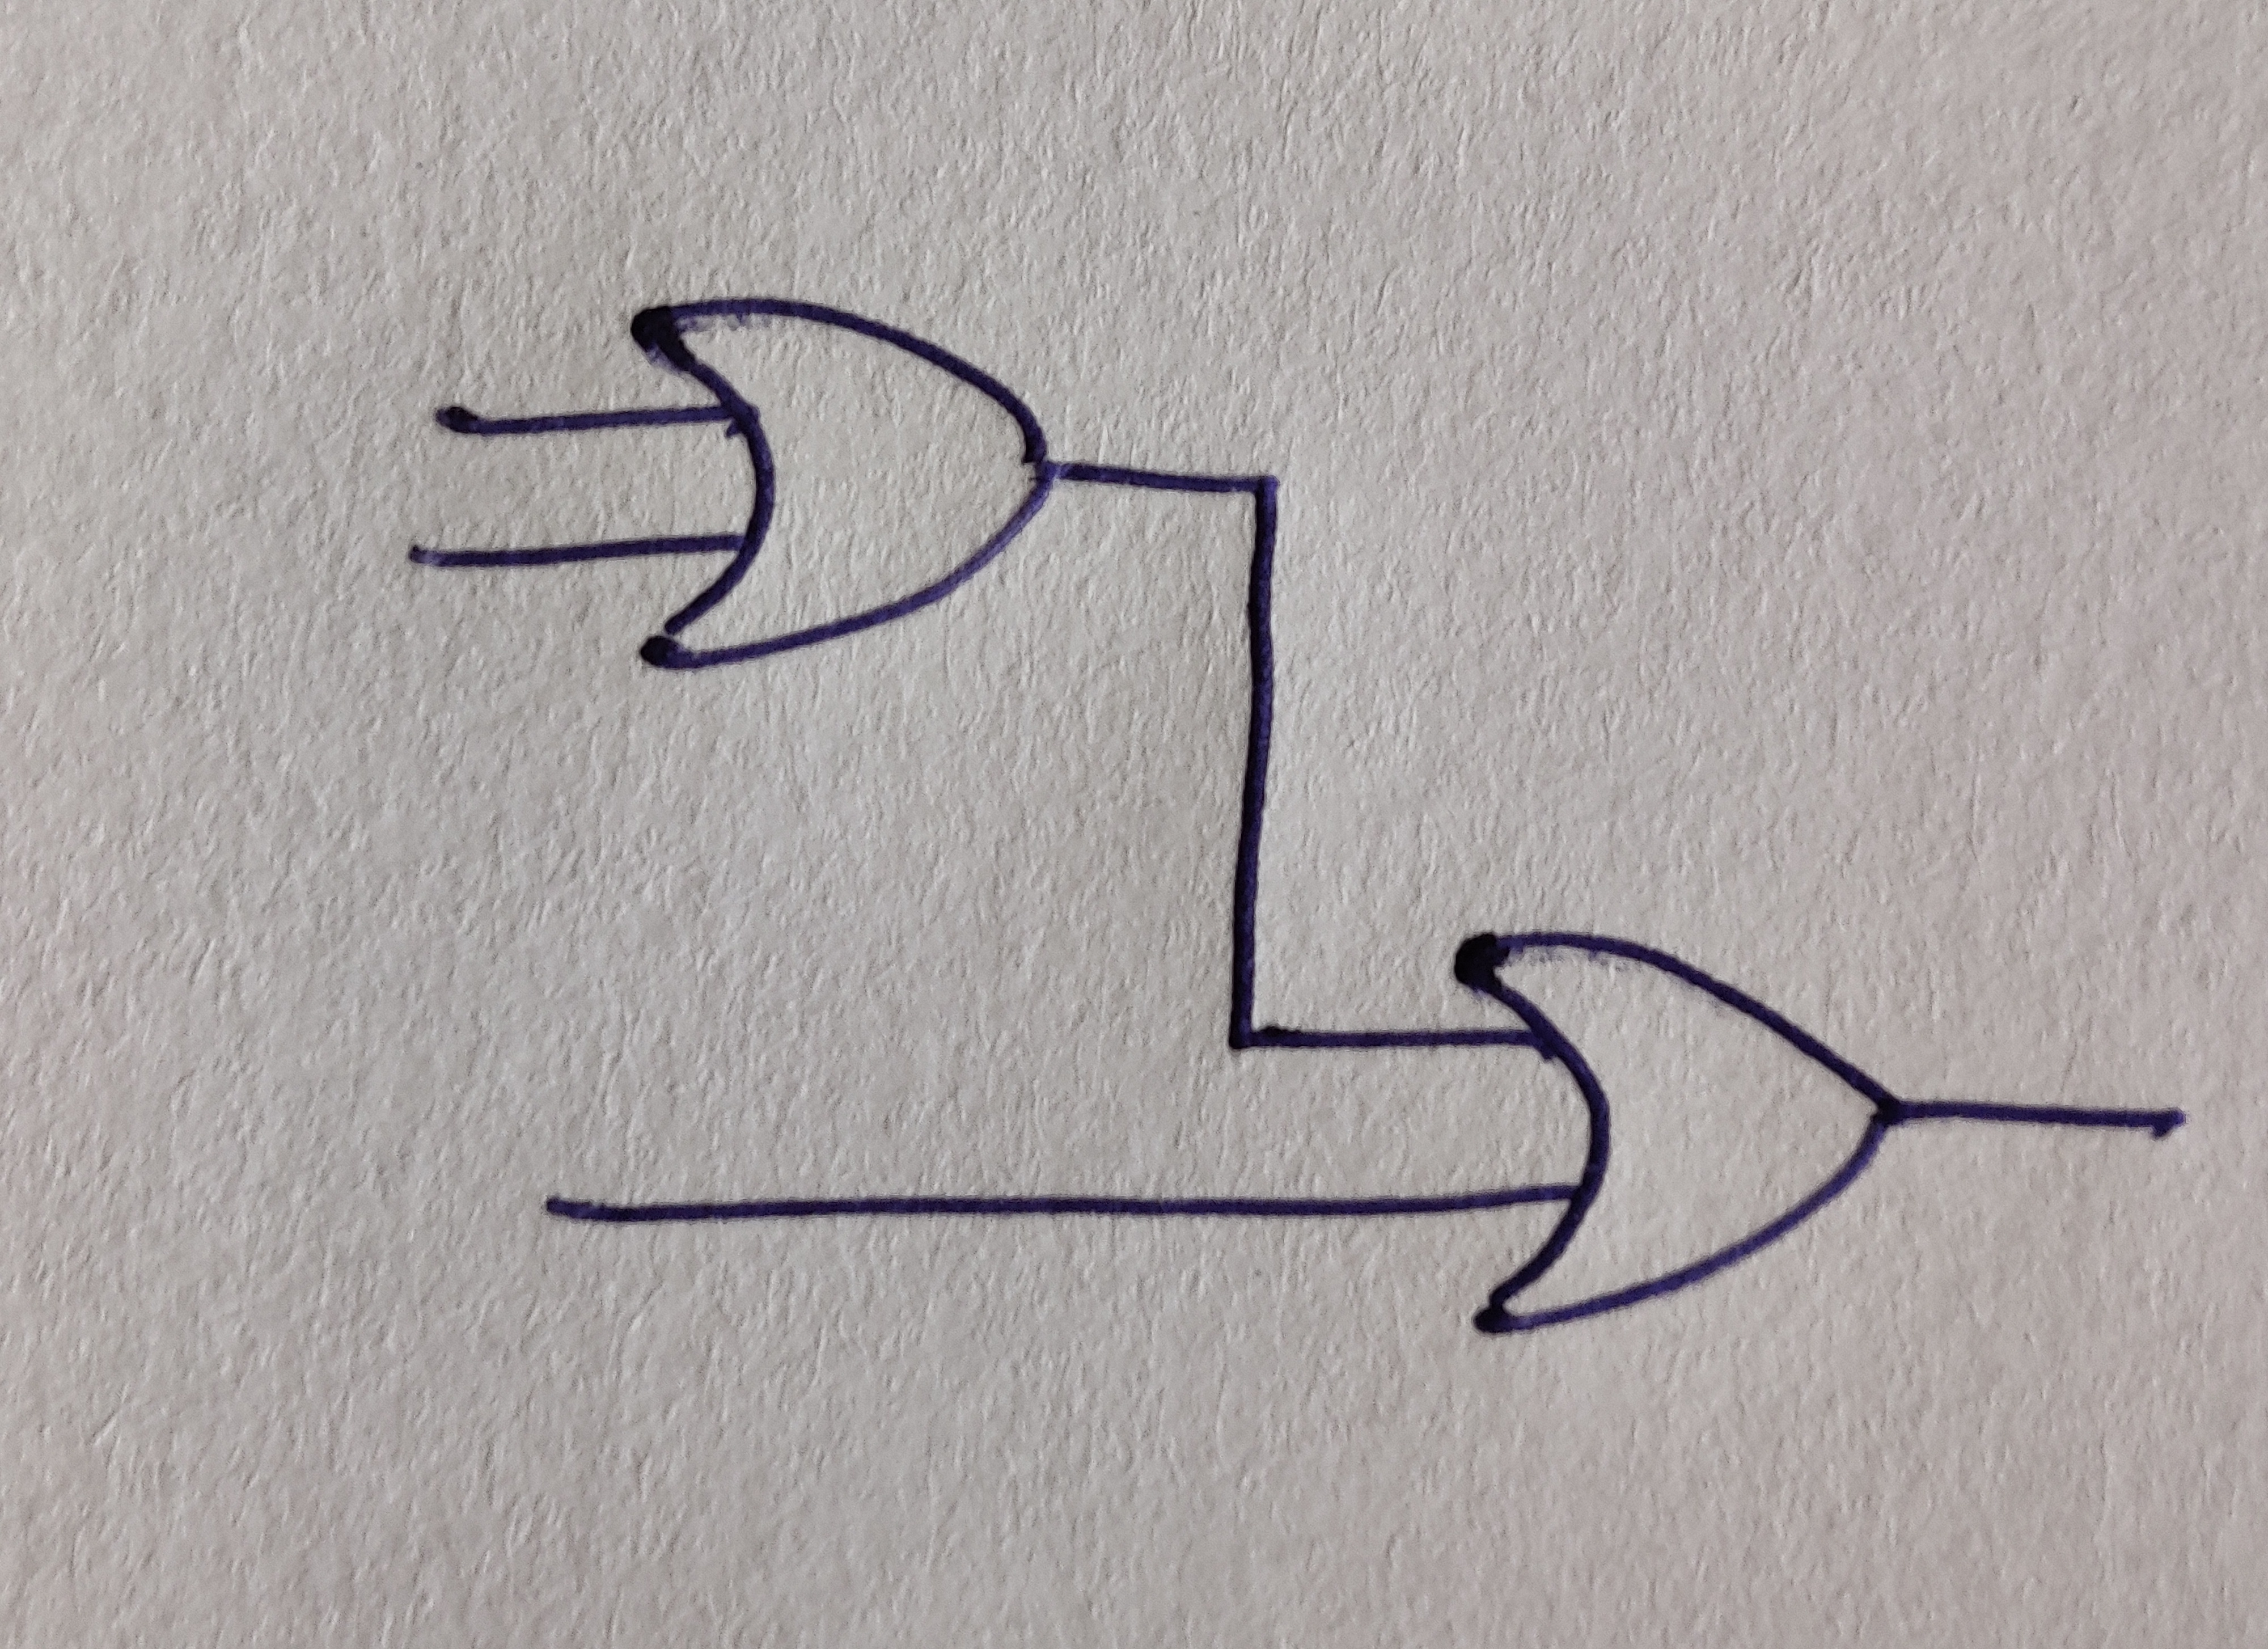or: (1451, 932, 1907, 1334), (629, 299, 1051, 669)
